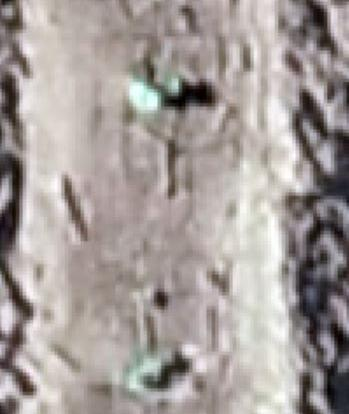cotton: (133, 83, 160, 108), (166, 75, 181, 95)
